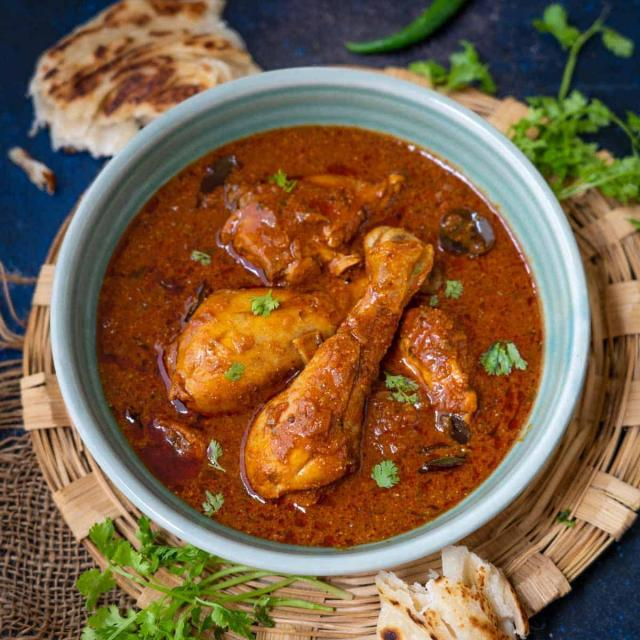chicken: (107, 109, 540, 544)
roti: (61, 26, 234, 161)
